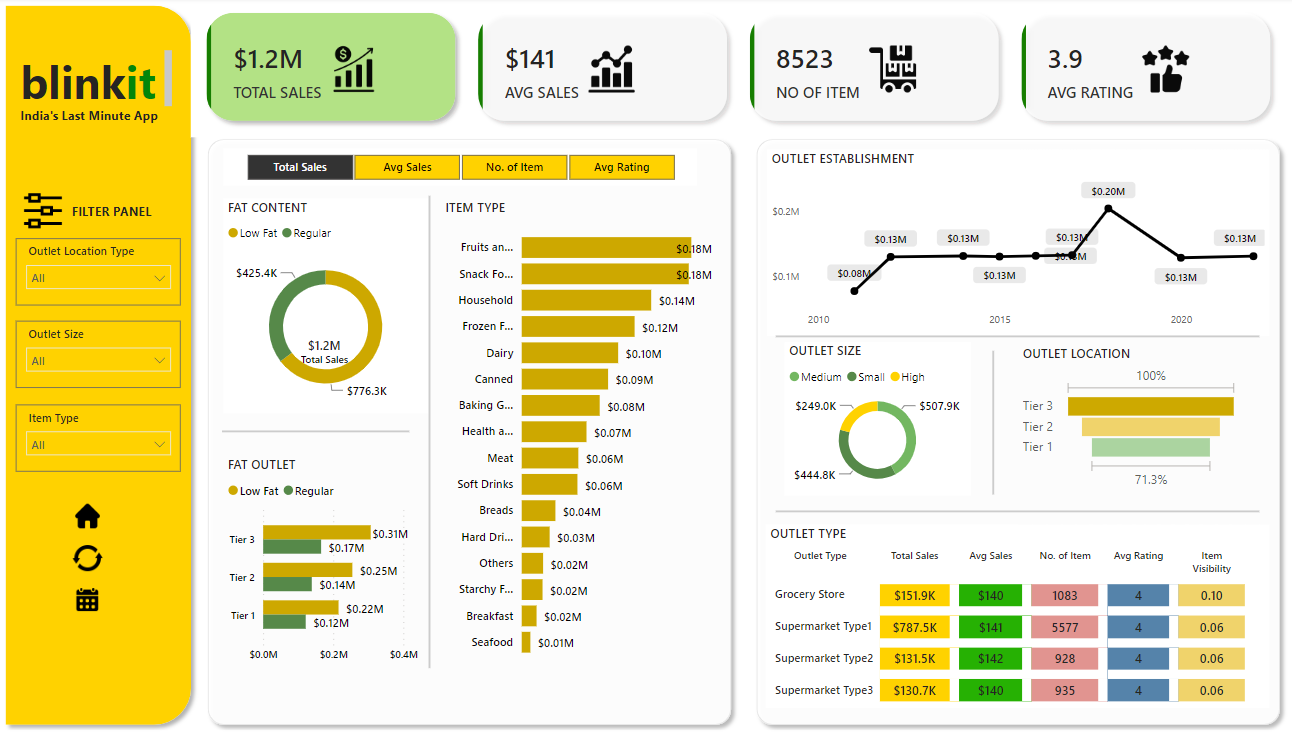

Layout of this report page (visuals, bound fields, positions):
{"tool":"powerbi","page":{"name":"Page 1","canvas":[1400,800],"ordinal":0},"visuals":[{"type":"shape","box":[0,0,217.1,789.3],"z":0},{"type":"textbox","box":[10.5,52.5,181.4,72],"z":1000},{"type":"textbox","box":[7.5,112.5,181.4,37.5],"z":2000},{"type":"cardVisual","fields":{"Data":["BlinkIT Grocery Data.Total Sales","BlinkIT Grocery Data.Avg Sales","BlinkIT Grocery Data.No of Item","BlinkIT Grocery Data.Average Rating"]},"box":[207.7,0,1176.5,150.1],"z":3000},{"type":"shape","box":[217.1,143.4,578.9,645.9],"z":4000},{"type":"donutChart","title":"FAT CONTENT","fields":{"Y":["BlinkIT Grocery Data.Total Sales"],"Category":["BlinkIT Grocery Data.Item Fat Content"]},"box":[242.8,215.5,219.8,230.5],"z":5000},{"type":"slicer","fields":{"Values":["Metrics.Metrics"]},"box":[242.8,161.9,507.9,40.2],"z":6000},{"type":"cardVisual","fields":{"Data":["BlinkIT Grocery Data.Total Sales"]},"box":[305.5,347.1,91.1,56.3],"z":7000},{"type":"clusteredBarChart","title":"FAT OUTLET","fields":{"Y":["BlinkIT Grocery Data.Total Sales"],"Category":["BlinkIT Grocery Data.Outlet Location Type"],"Series":["BlinkIT Grocery Data.Item Fat Content"]},"box":[242.8,491.5,219.8,230.5],"z":8000},{"type":"shape","box":[241.5,446,201,38.9],"z":9000},{"type":"shape","box":[426.4,212.8,75,506.5],"z":10000},{"type":"barChart","title":"ITEM TYPE","fields":{"Y":["BlinkIT Grocery Data.Total Sales"],"Category":["BlinkIT Grocery Data.Item Type"]},"box":[476,215.5,296.1,503.9],"z":11000},{"type":"shape","box":[805.4,143.4,578.9,645.9],"z":12000},{"type":"lineChart","title":"OUTLET ESTABLISHMENT","fields":{"Category":["BlinkIT Grocery Data.Outlet Establishment Year"],"Y":["BlinkIT Grocery Data.Total Sales"]},"box":[825.5,163.5,538.7,199.7],"z":13000},{"type":"shape","box":[834.8,344.4,518.6,38.9],"z":14000},{"type":"donutChart","title":"OUTLET SIZE","fields":{"Y":["BlinkIT Grocery Data.Total Sales"],"Category":["BlinkIT Grocery Data.Outlet Size"]},"box":[844.2,369.8,199.7,164.8],"z":15000},{"type":"shape","box":[1030.5,379.2,75,154.1],"z":16000},{"type":"shape","box":[834.8,532,518.6,38.9],"z":17000},{"type":"funnel","title":"OUTLET LOCATION","fields":{"Y":["Sum(BlinkIT Grocery Data.Sales)"],"Category":["BlinkIT Grocery Data.Outlet Location Type"]},"box":[1094.8,372.5,241.2,159.5],"z":18000},{"type":"pivotTable","title":"OUTLET TYPE","fields":{"Rows":["BlinkIT Grocery Data.Outlet Type"],"Values":["BlinkIT Grocery Data.Total Sales","BlinkIT Grocery Data.Avg Sales","BlinkIT Grocery Data.No. of Item","BlinkIT Grocery Data.Average Rating","Avg(BlinkIT Grocery Data.Item Visibility)"]},"box":[824.1,565.5,540,197],"z":19000},{"type":"slicer","fields":{"Values":["BlinkIT Grocery Data.Outlet Location Type"]},"box":[20.1,258.6,176.9,72.4],"z":20000},{"type":"slicer","fields":{"Values":["BlinkIT Grocery Data.Outlet Size"]},"box":[20.1,347.1,176.9,72.4],"z":21000},{"type":"slicer","fields":{"Values":["BlinkIT Grocery Data.Item Type"]},"box":[20.1,436.9,176.9,72.4],"z":22000},{"type":"textbox","box":[75,215.7,116.6,30.8],"z":22001},{"type":"image","box":[20.1,194.3,59,69.7],"z":22002},{"type":"image","box":[79.1,532,36.2,48.2],"z":22003},{"type":"image","box":[76.4,577.6,41.5,48.2],"z":22004},{"type":"image","box":[72.4,627.1,48.2,37.5],"z":22005}]}

Visuals, with their boxes in screenshot pixels (x1, y1, x2, y2), scaled from the page's 1400x800 canvas onto the 1292x732 screenshot:
shape: [0,0,200,722]
textbox: [10,48,177,114]
textbox: [7,103,174,137]
cardVisual - BlinkIT Grocery Data.Total Sales x BlinkIT Grocery Data.Avg Sales: [192,0,1277,137]
shape: [200,131,735,722]
"FAT CONTENT" donutChart: [224,197,427,408]
slicer - Metrics.Metrics: [224,148,693,185]
cardVisual - BlinkIT Grocery Data.Total Sales: [282,318,366,369]
"FAT OUTLET" clusteredBarChart: [224,450,427,661]
shape: [223,408,408,444]
shape: [394,195,463,658]
"ITEM TYPE" barChart: [439,197,713,658]
shape: [743,131,1278,722]
"OUTLET ESTABLISHMENT" lineChart: [762,150,1259,332]
shape: [770,315,1249,351]
"OUTLET SIZE" donutChart: [779,338,963,489]
shape: [951,347,1020,488]
shape: [770,487,1249,522]
"OUTLET LOCATION" funnel: [1010,341,1233,487]
"OUTLET TYPE" pivotTable: [761,517,1259,698]
slicer - BlinkIT Grocery Data.Outlet Location Type: [19,237,182,303]
slicer - BlinkIT Grocery Data.Outlet Size: [19,318,182,384]
slicer - BlinkIT Grocery Data.Item Type: [19,400,182,466]
textbox: [69,197,177,226]
image: [19,178,73,242]
image: [73,487,106,531]
image: [71,529,109,573]
image: [67,574,111,608]
